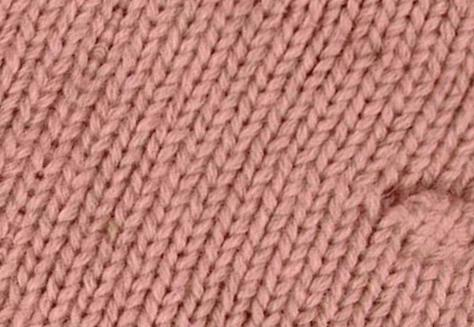knot: (377, 178, 473, 268)
